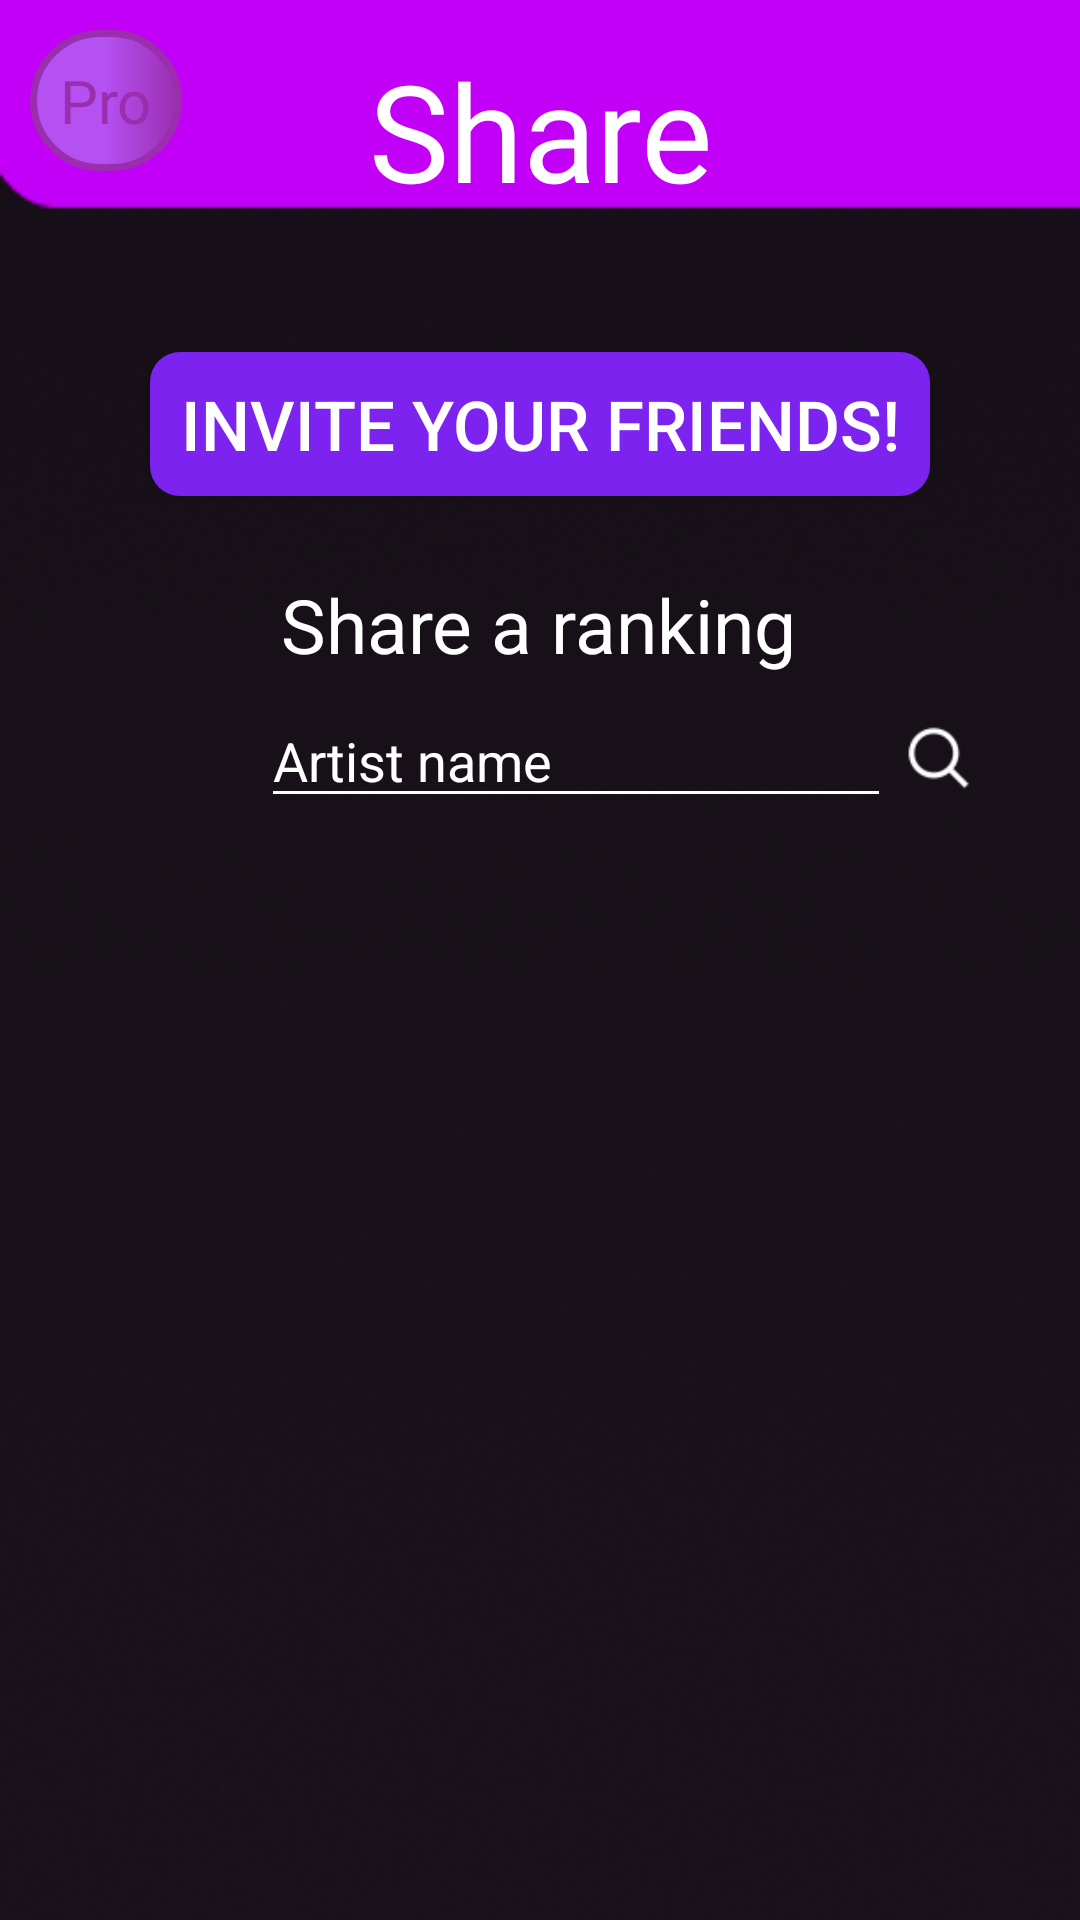

Named icons in this screenshot (1080px x 1920px) and their bounding boxes, (x1, y1, x2, y2):
loupe: (908, 727, 969, 788)
